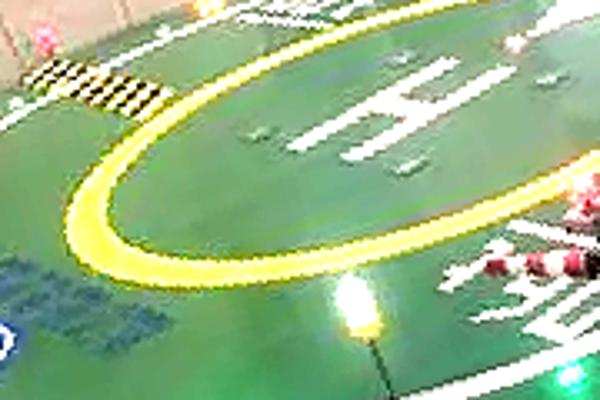Apron: (61, 4, 600, 295)
